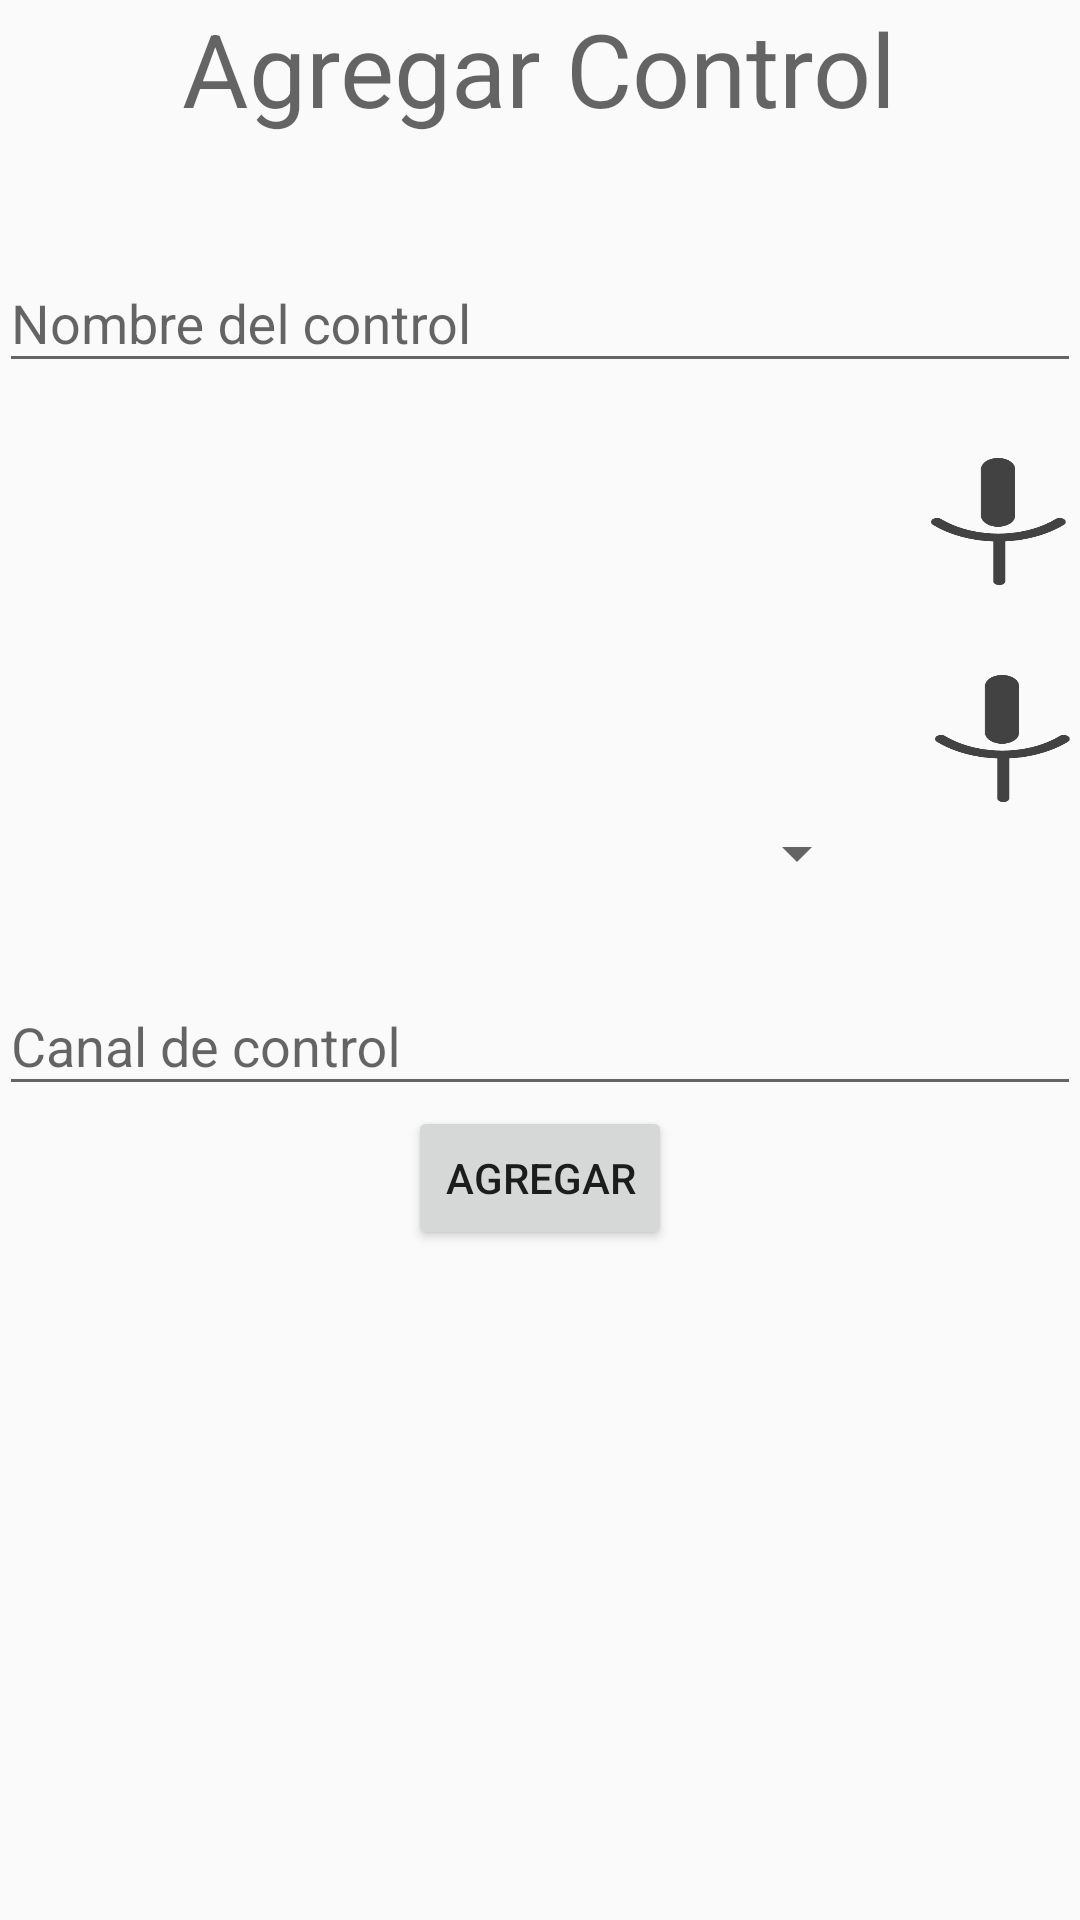

Screen size 1080x1920. Icon name, then its box in pixels as (x1, y1, x2, y2):
mic: (931, 458, 1066, 585), (935, 675, 1070, 802)
